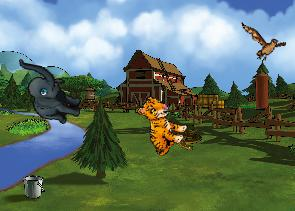eagle: (237, 22, 288, 63)
elephant: (9, 58, 88, 126)
tiger: (124, 92, 194, 160)
